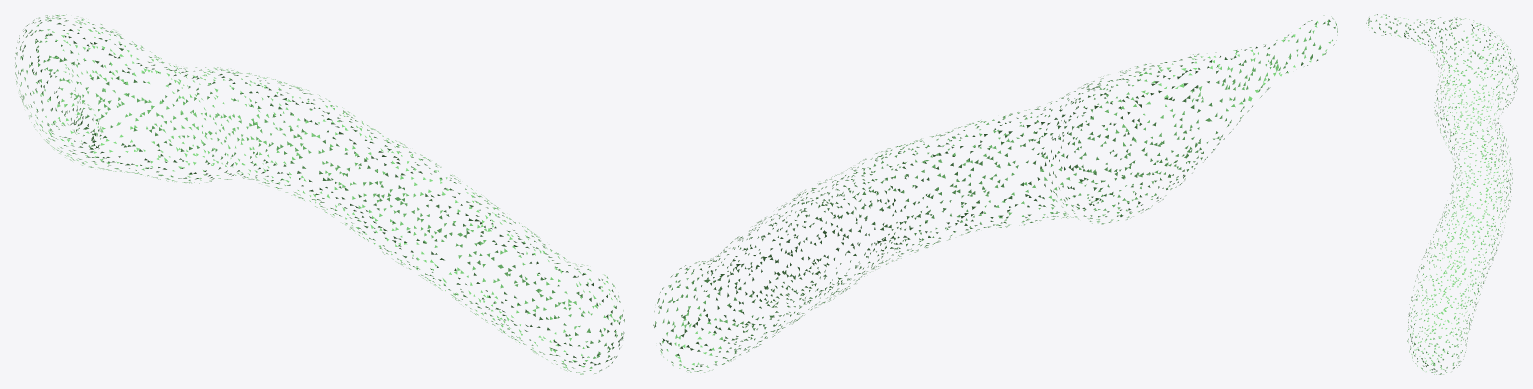
Rendered from morph_017.glb.
3 views of the same model, side by side, from view 1: azimuth 30°, elevation 25°; view 2: azimuth 150°, elevation 25°; view 3: azimuth 270°, elevation 25° (orthographic). The views are drawn at different scales.
Size of the model in its own units: 113 by 81.68 by 49.6.
